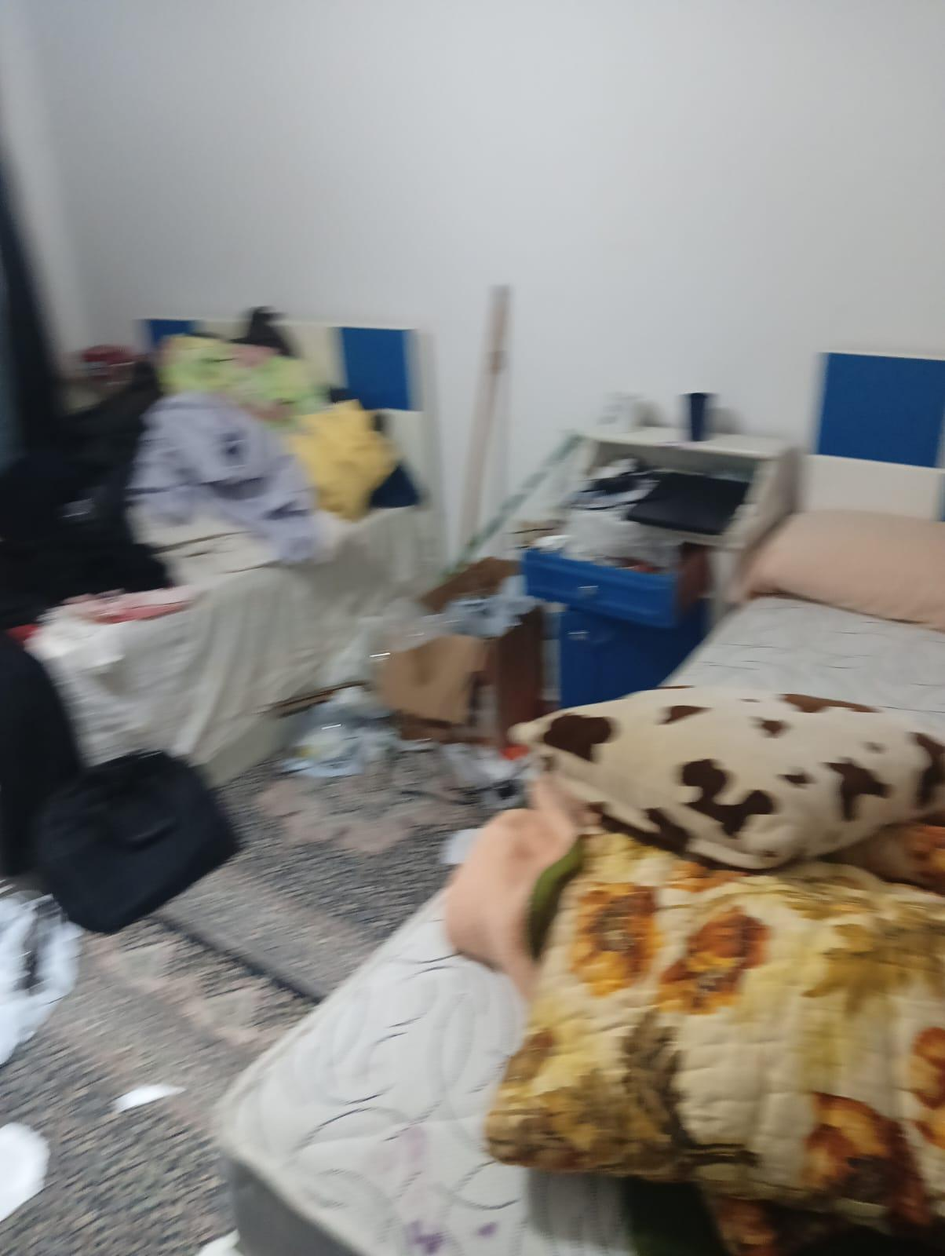cup: (685, 392, 711, 442), (601, 394, 635, 431)
